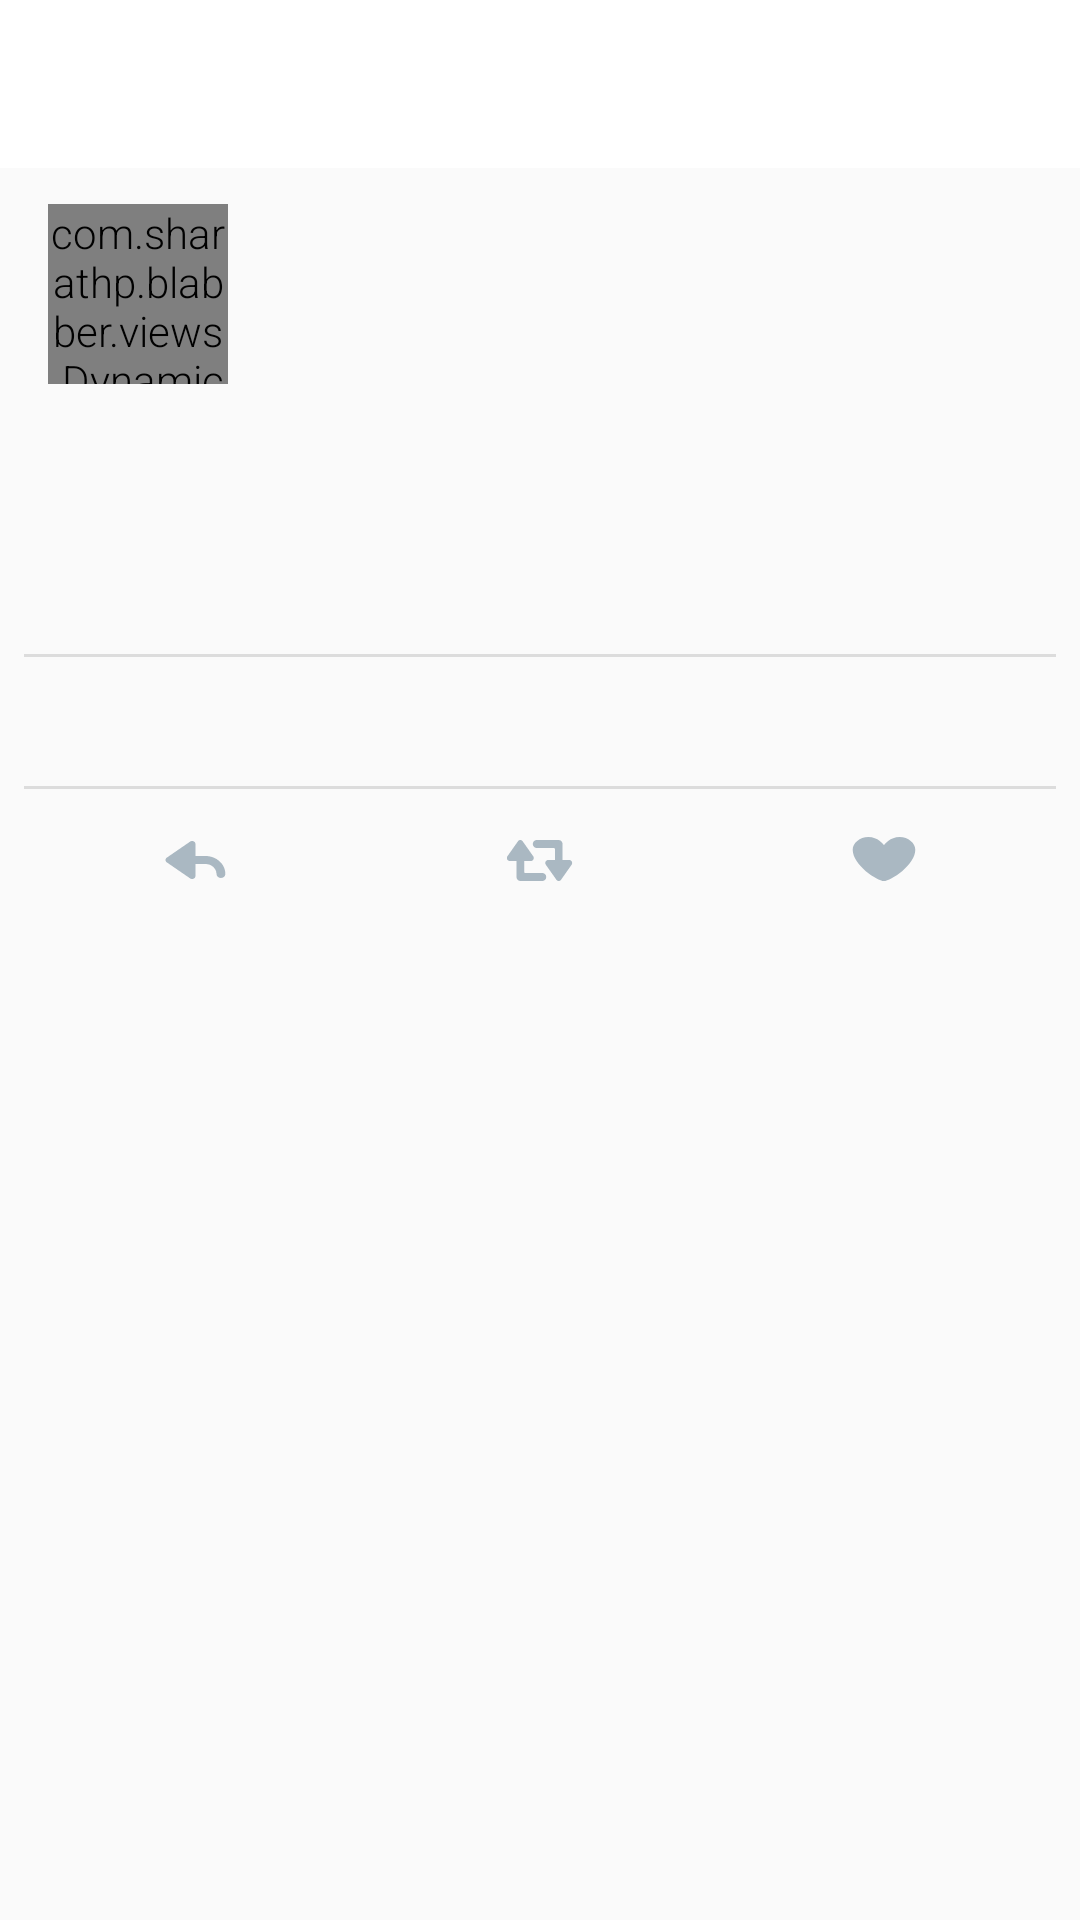

Icon click points for this 1080x1920 phone screenshot, format [x,y]:
like: [884,859]
reply: [195,860]
retweet: [539,860]
